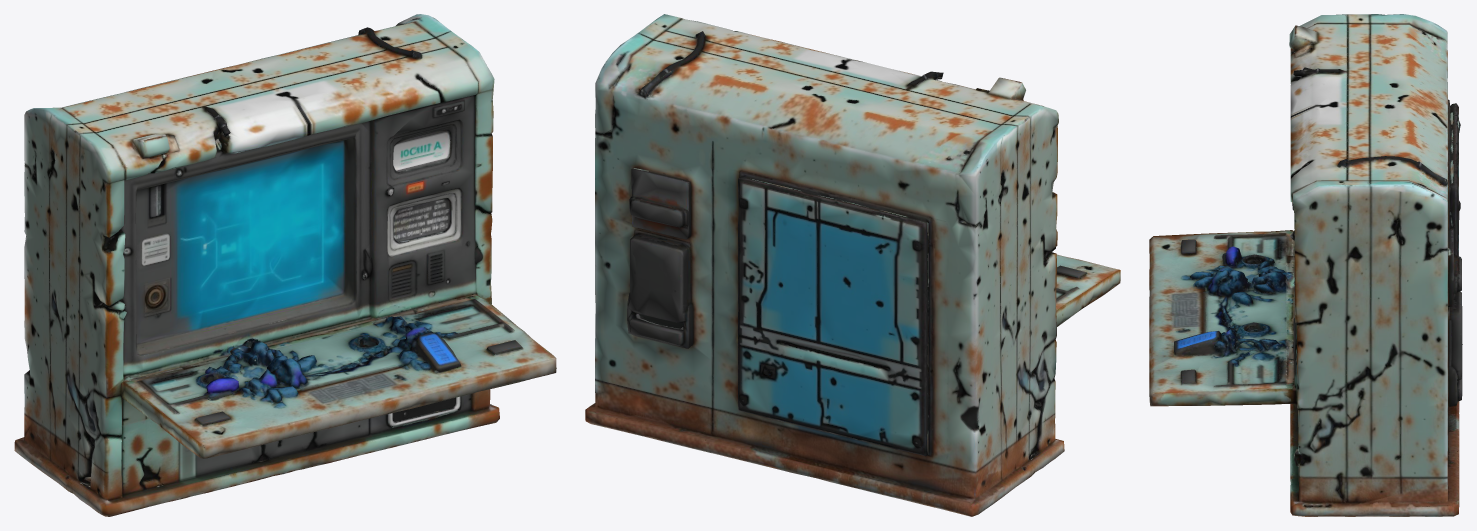
Rendered from damaged_sci_fi_hologr_1203053836_texture.fbx.
The picture shows the model from 3 angles, left to right: view 1: azimuth 30°, elevation 25°; view 2: azimuth 150°, elevation 25°; view 3: azimuth 270°, elevation 25°; orthographic projection. The views are drawn at different scales.
Visible parts, largest first — view 1: Mesh1.0; view 2: Mesh1.0; view 3: Mesh1.0.
Boxes of the visible parts, <box> form: Mesh1.0: <box>14,14,556,516</box>; Mesh1.0: <box>585,14,1120,516</box>; Mesh1.0: <box>1149,14,1462,516</box>.
Size of the model in its own units: 191 by 169 by 143.
Materials: 1 (1 with a texture image).
